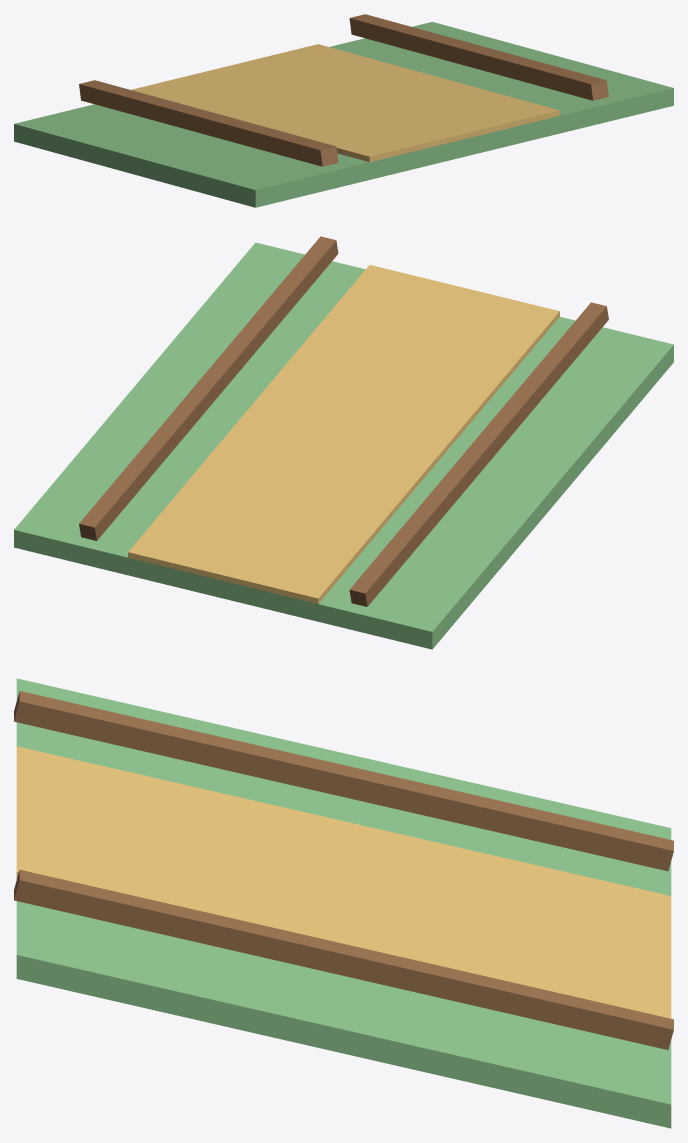
Rendered from ROAD_DIRT_SLOPE_1x1_DOWN_050.glb.
3 views of the same model, one above another, from view 1: azimuth 30°, elevation 25°; view 2: azimuth 150°, elevation 25°; view 3: azimuth 270°, elevation 25° (orthographic). The views are drawn at different scales.
Visible parts, largest first — view 1: ROAD_DIRT_SLOPE_1x1_DOWN_050_Visual; view 2: ROAD_DIRT_SLOPE_1x1_DOWN_050_Visual; view 3: ROAD_DIRT_SLOPE_1x1_DOWN_050_Visual.
Part boxes in pixels (left/top/right/bottom): ROAD_DIRT_SLOPE_1x1_DOWN_050_Visual: left=14, top=14, right=673, bottom=207; ROAD_DIRT_SLOPE_1x1_DOWN_050_Visual: left=14, top=236, right=673, bottom=649; ROAD_DIRT_SLOPE_1x1_DOWN_050_Visual: left=14, top=678, right=673, bottom=1128.
Size of what is drawn, in the model's own units: 1.98 by 0.6839 by 2.
